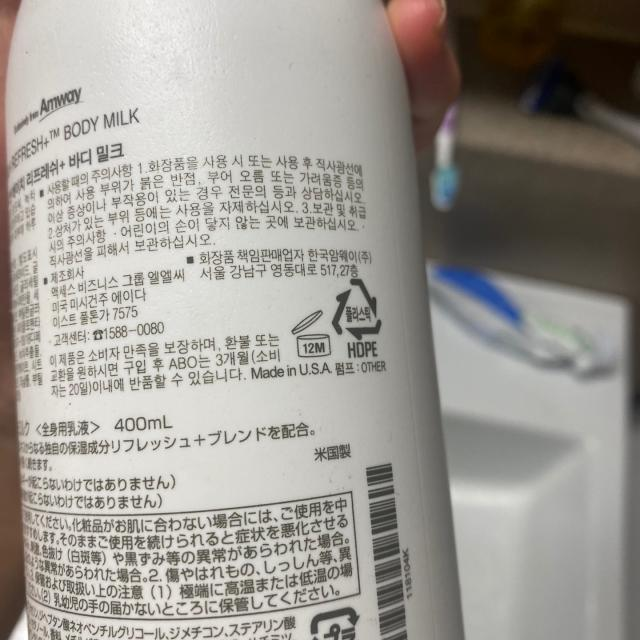Plastic: (328, 276, 386, 342)
